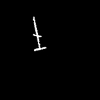double_crochet: (33, 19, 45, 50)
